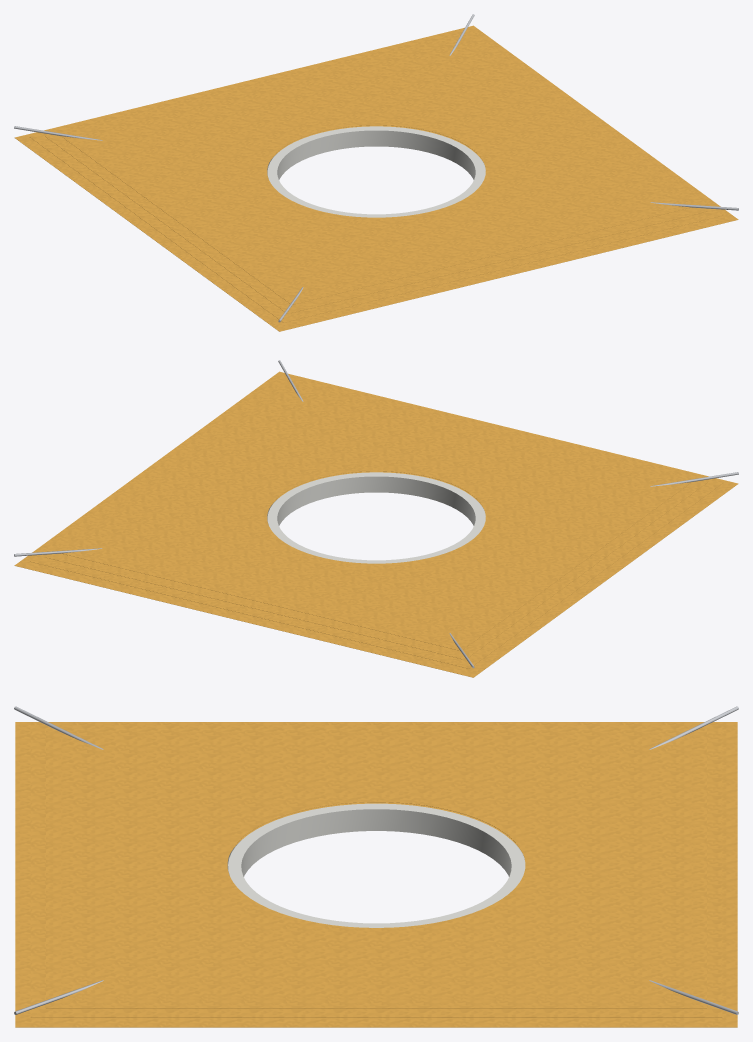
The model's file is ax_util_30_sunshade_xl_deployed.glb.
3 renders of one model, top to bottom at view 1: azimuth 30°, elevation 25°; view 2: azimuth 150°, elevation 25°; view 3: azimuth 270°, elevation 25°, orthographic. The views are drawn at different scales.
Parts seen in each view (by area): view 1: membrane_layers, canister_ring, booms; view 2: membrane_layers, canister_ring, booms; view 3: membrane_layers, canister_ring, booms.
Boxes of the visible parts, x1,y1,x2,y2 form: membrane_layers: (14, 25, 738, 331); canister_ring: (267, 126, 485, 217); booms: (14, 14, 738, 322); membrane_layers: (14, 371, 738, 677); canister_ring: (267, 472, 485, 563); booms: (14, 360, 738, 668); membrane_layers: (15, 722, 737, 1027); canister_ring: (227, 803, 525, 927); booms: (14, 706, 738, 1014).
Size of the model in its own units: 12.06 by 0.53 by 12.06.
Materials: 3 (2 with a texture image).
